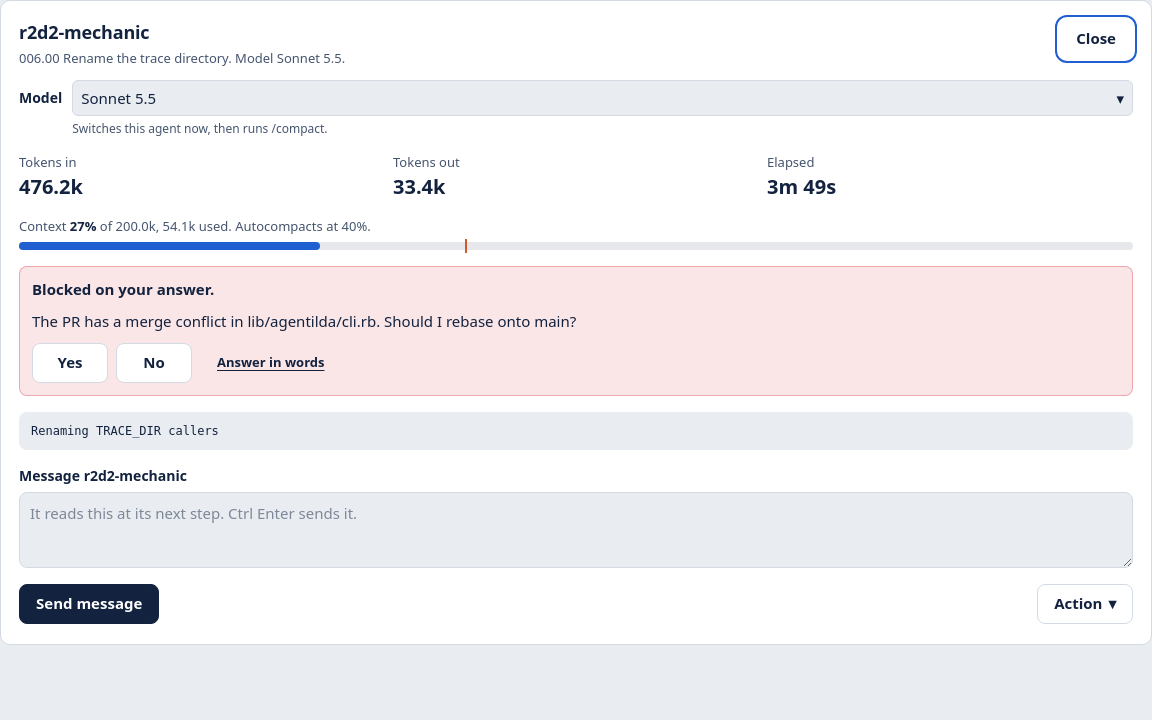
Test: AgentDrawer › swaps Yes and No for words
Click the button "Answer in words": (271, 362) [200,342,342,382]
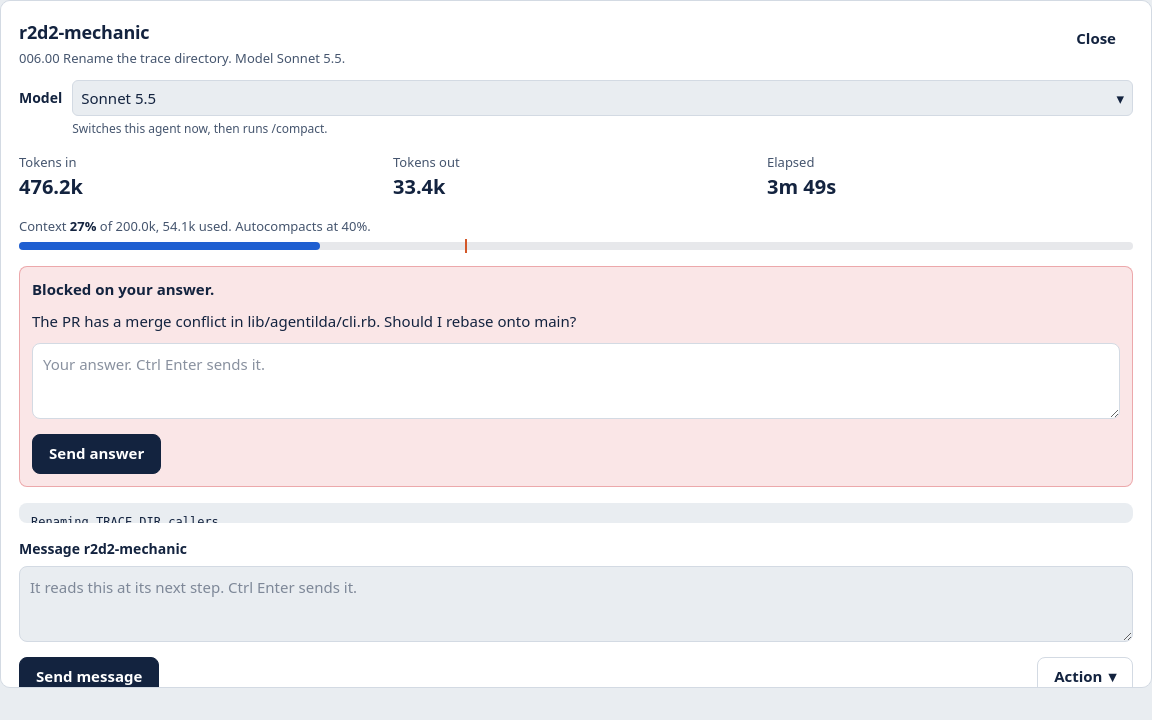
expect the text box labelled "Your answer" is shown: met, box [32,342,1120,418]
